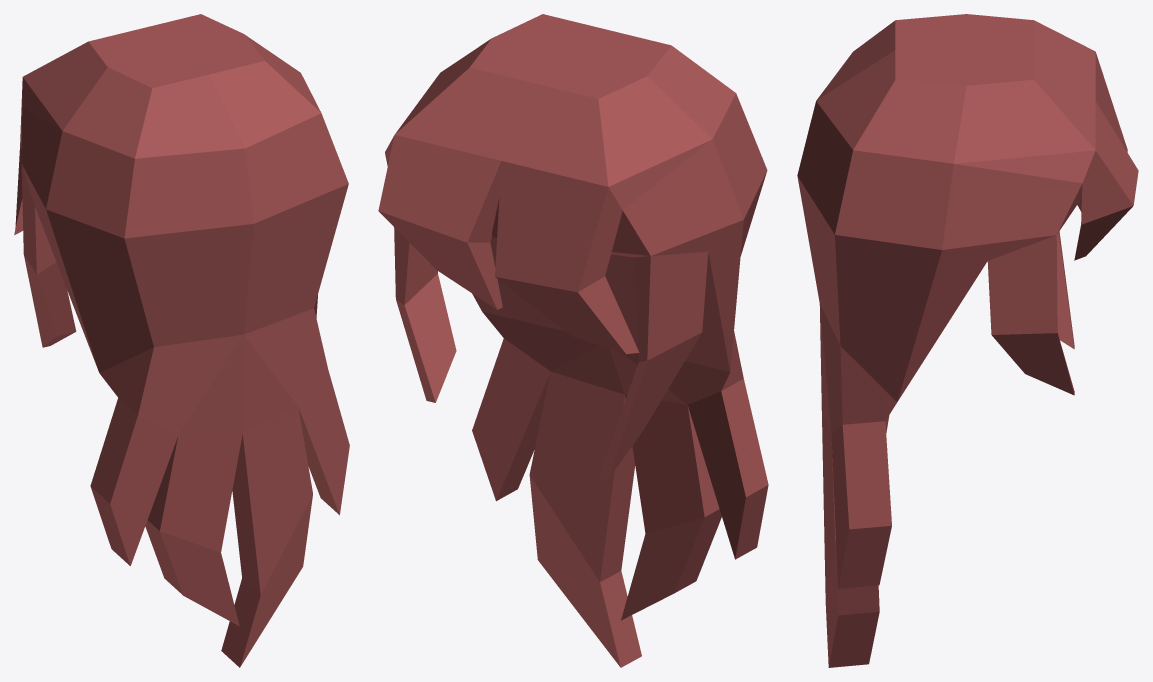
File: Hair.fbx
The picture shows the model from 3 angles, left to right: view 1: azimuth 30°, elevation 25°; view 2: azimuth 150°, elevation 25°; view 3: azimuth 270°, elevation 25°; orthographic projection. The views are drawn at different scales.
Visible parts, largest first — view 1: pCube1; view 2: pCube1; view 3: pCube1.
Part boxes in pixels (x1,y1,x2,y2): pCube1: (14,14,349,667); pCube1: (378,14,768,667); pCube1: (797,14,1138,667).
Size of the model in its own units: 1.22 by 2.37 by 1.18.
